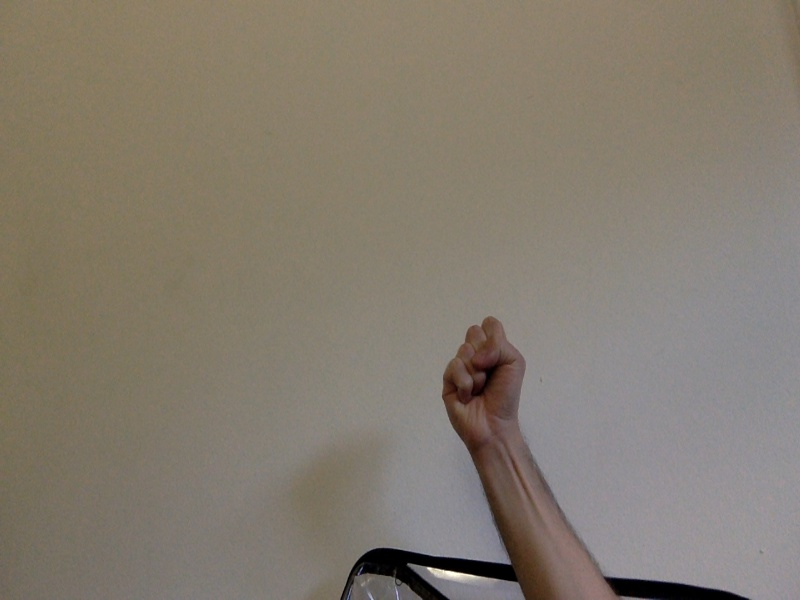0-hand: (443, 317, 526, 450)
